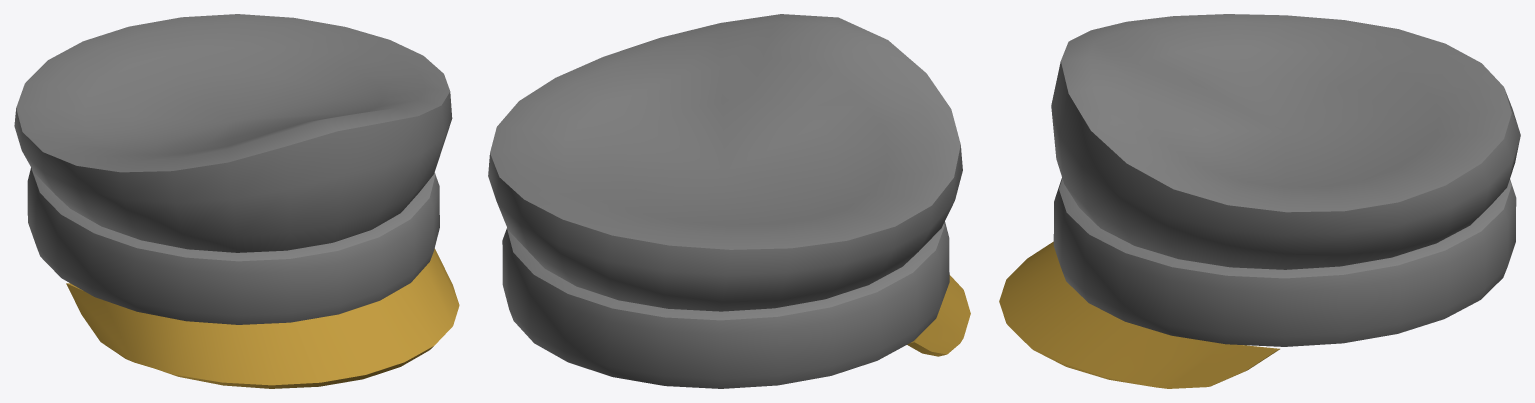
File: SM_hat_mailman.fbx
3 views of the same model, side by side, from view 1: azimuth 30°, elevation 25°; view 2: azimuth 150°, elevation 25°; view 3: azimuth 270°, elevation 25° (orthographic). The views are drawn at different scales.
Parts seen in each view (by area): view 1: Object32421; view 2: Object32421; view 3: Object32421.
Boxes of the visible parts, bbox=[...] form: Object32421: bbox=[14, 14, 459, 388]; Object32421: bbox=[488, 14, 970, 388]; Object32421: bbox=[999, 14, 1520, 388].
Size of the model in its own units: 33.54 by 19.52 by 36.85.
